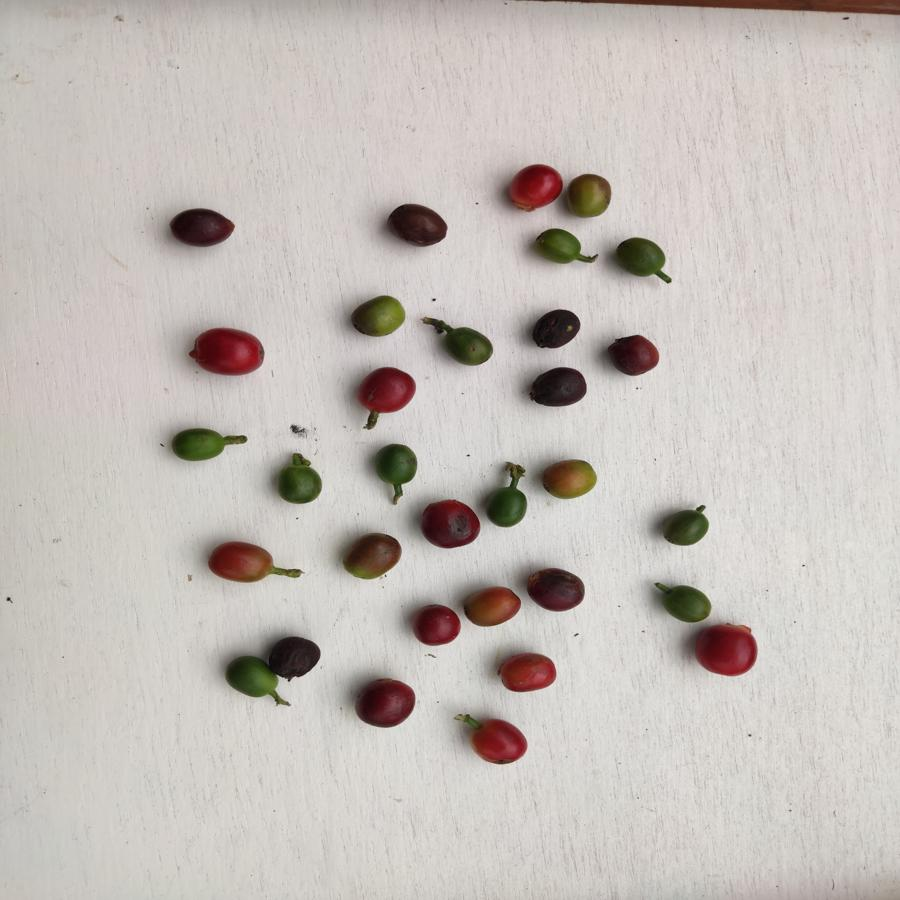Inmaduro: (348, 293, 409, 338), (442, 322, 497, 368), (222, 655, 278, 699), (614, 232, 668, 276), (172, 422, 227, 465), (661, 582, 714, 625), (662, 504, 712, 548), (274, 463, 325, 506), (532, 226, 584, 268), (372, 444, 422, 483), (483, 486, 527, 525)
Maduro: (188, 324, 268, 378), (205, 537, 275, 590), (696, 623, 760, 677), (468, 715, 529, 768), (358, 364, 418, 417), (495, 648, 561, 694), (410, 598, 464, 651), (505, 160, 561, 211)
Pinton: (341, 532, 403, 581), (538, 458, 602, 502), (462, 585, 522, 630), (567, 172, 614, 221)
Sobremaduro: (352, 675, 420, 728), (417, 496, 482, 551), (167, 205, 241, 249), (385, 199, 450, 248), (525, 565, 588, 612), (269, 631, 321, 683), (527, 365, 589, 408), (531, 305, 583, 352), (604, 334, 662, 376)
